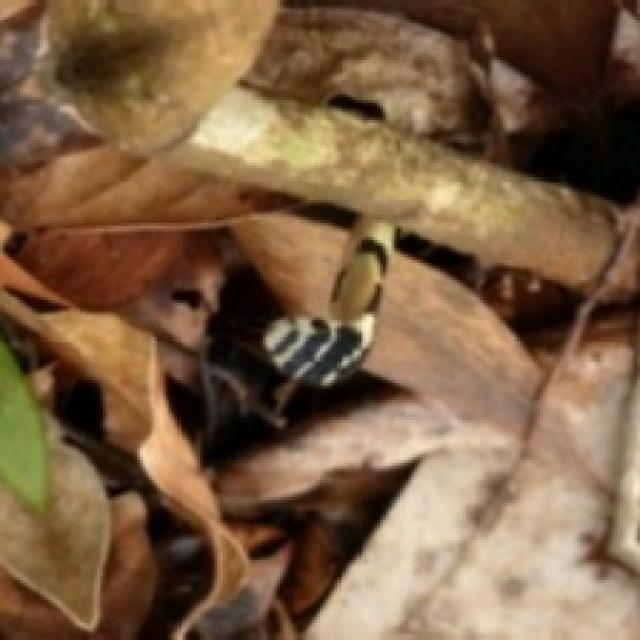king cobra: (262, 219, 395, 387)
